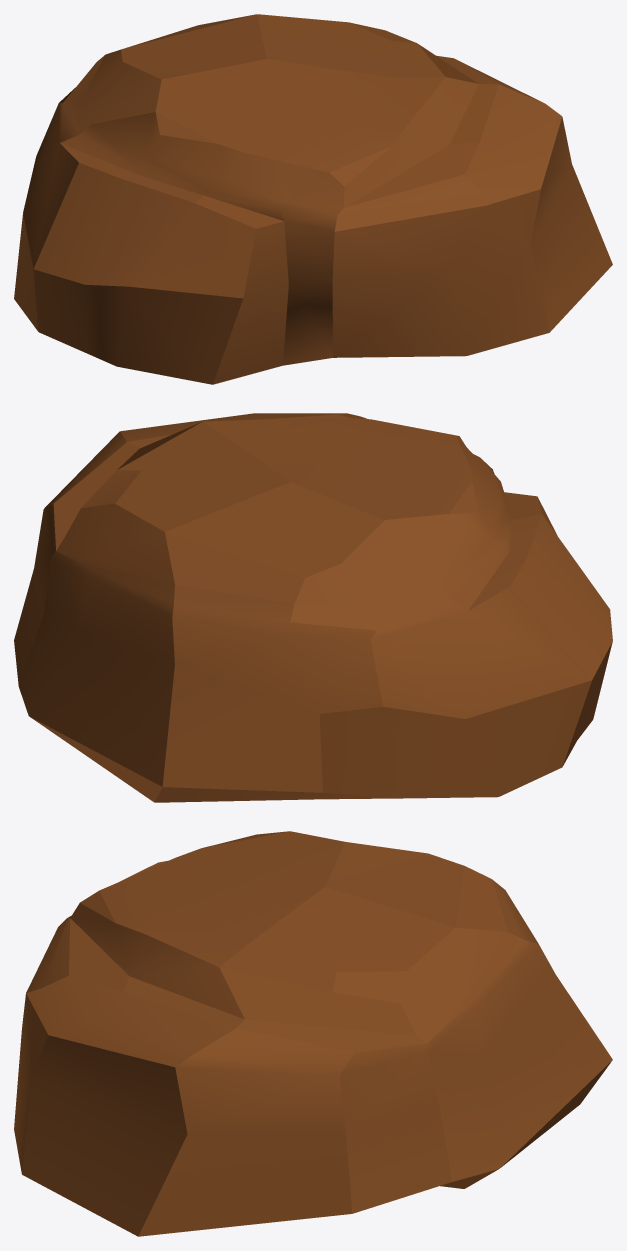
The model's file is crag.glb.
3 views of the same model, one above another, from view 1: azimuth 30°, elevation 25°; view 2: azimuth 150°, elevation 25°; view 3: azimuth 270°, elevation 25° (orthographic). The views are drawn at different scales.
Visible parts, largest first — view 1: Rock_Large_1; view 2: Rock_Large_1; view 3: Rock_Large_1.
Boxes of the visible parts, <box> form: Rock_Large_1: <box>14,14,612,384</box>; Rock_Large_1: <box>14,413,612,802</box>; Rock_Large_1: <box>14,831,612,1236</box>.
Size of the model in its own units: 7.67 by 3.29 by 7.33.
Materials: 1 (1 with a texture image).
